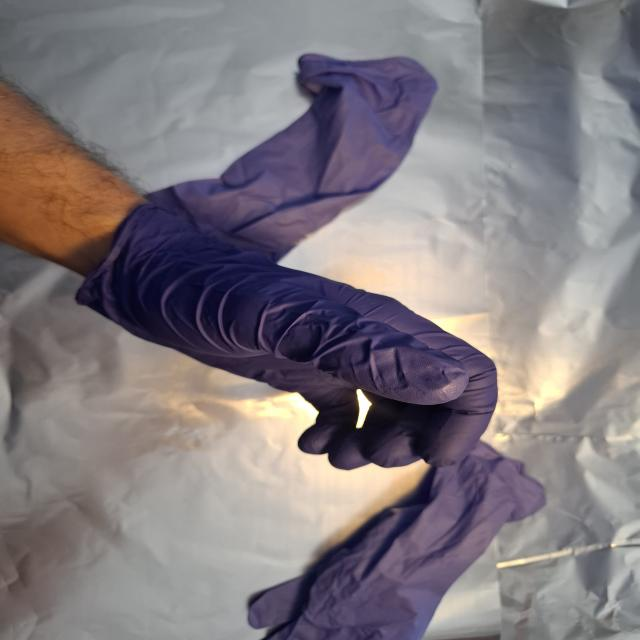glove_on: (78, 203, 507, 473)
